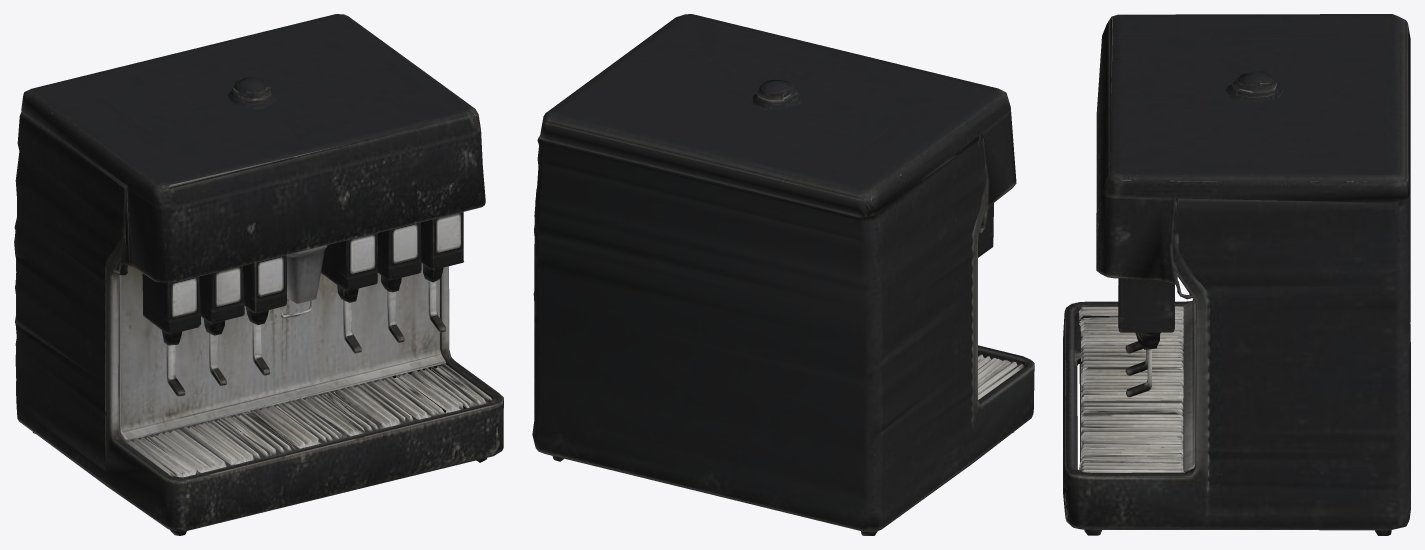
Rendered from p7-soda-fountain-t25.glb.
The picture shows the model from 3 angles, left to right: view 1: azimuth 30°, elevation 25°; view 2: azimuth 150°, elevation 25°; view 3: azimuth 270°, elevation 25°; orthographic projection. The views are drawn at different scales.
Parts seen in each view (by area): view 1: p7-soda-fountain-t25; view 2: p7-soda-fountain-t25; view 3: p7-soda-fountain-t25.
Boxes of the visible parts, left/top/right/bottom form: p7-soda-fountain-t25: left=14, top=14, right=503, bottom=535; p7-soda-fountain-t25: left=532, top=14, right=1034, bottom=535; p7-soda-fountain-t25: left=1063, top=14, right=1410, bottom=535.
Size of the model in its own units: 0.837 by 0.85 by 0.7.
1 material, 1 textured.
